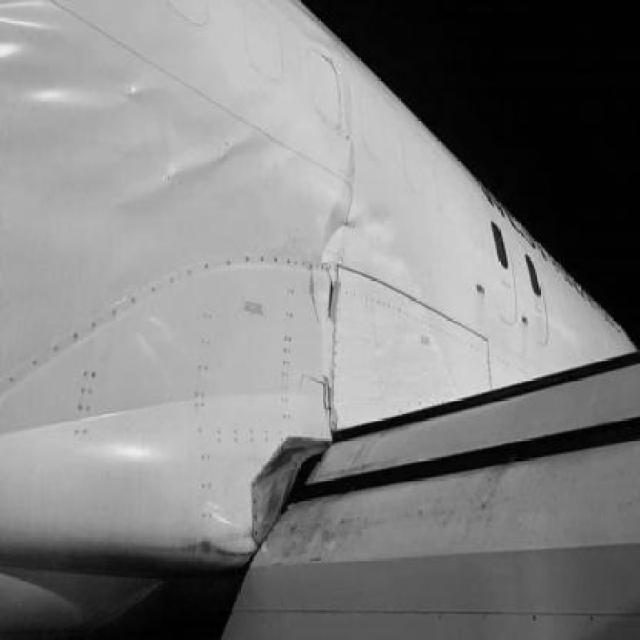dent: (126, 88, 269, 191), (322, 191, 400, 264), (11, 70, 119, 113), (2, 2, 68, 62), (303, 262, 349, 345), (86, 422, 165, 459)
